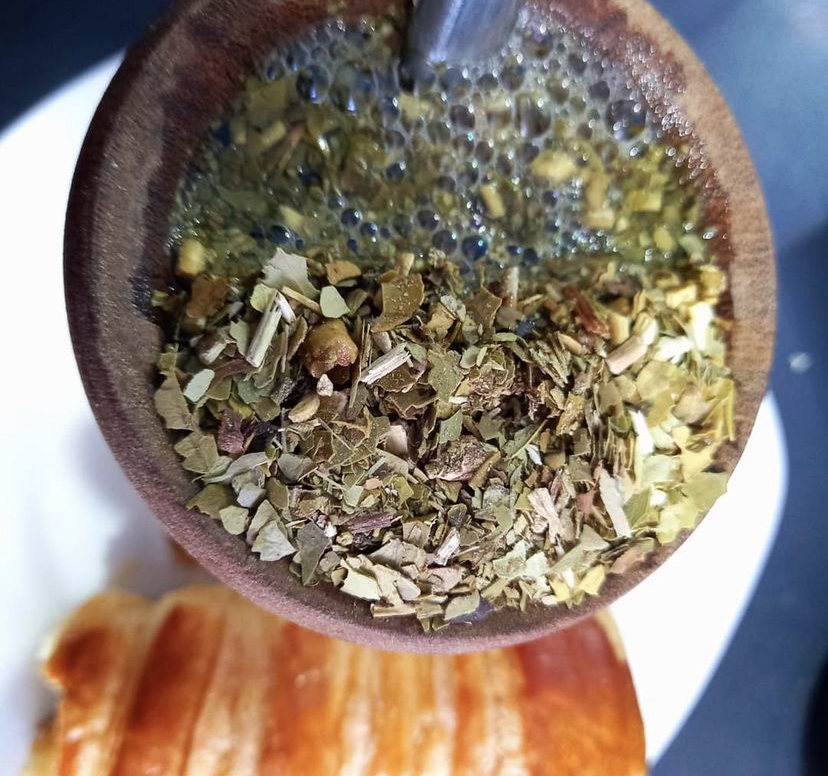mate: (72, 2, 782, 658)
